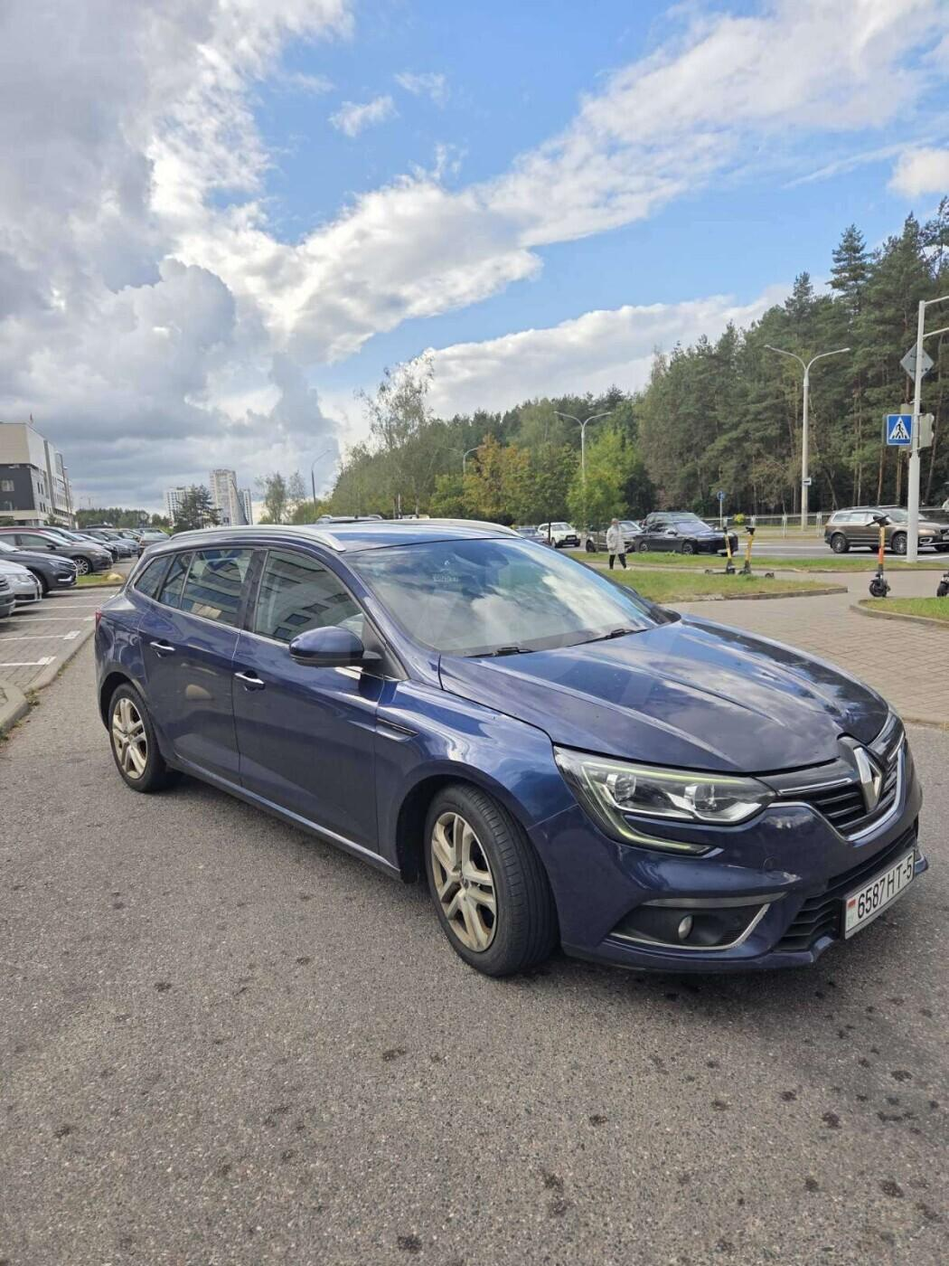Megane_2016-2020: (92, 515, 926, 998)
